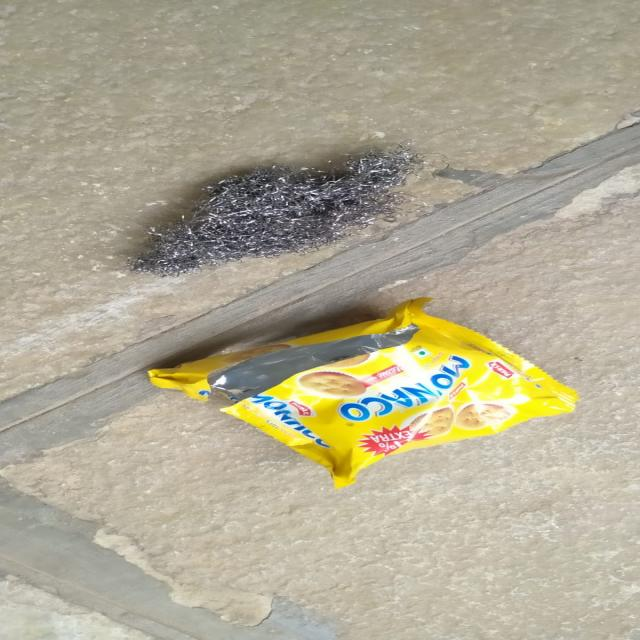metal: (102, 147, 498, 284)
plastic: (152, 294, 584, 482)
